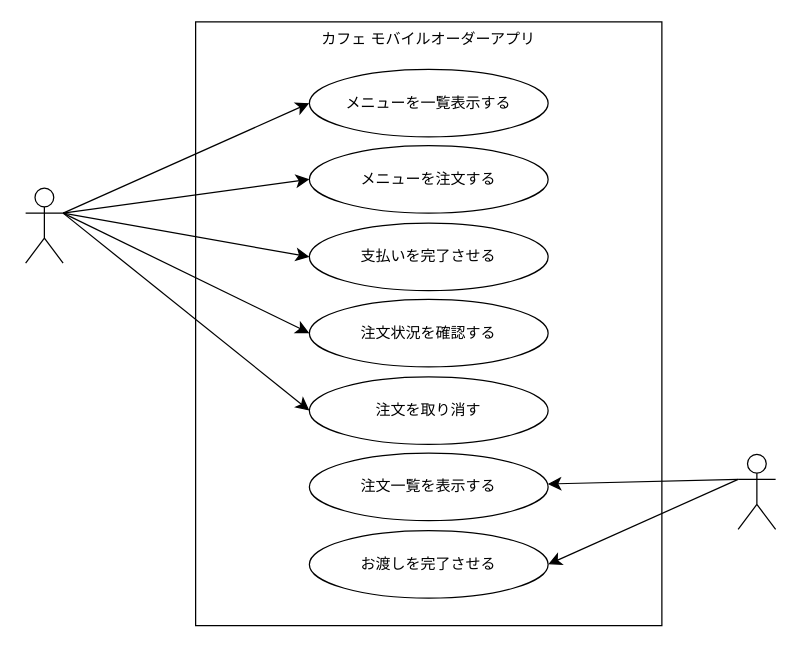
Image size: 798x648. Some labels were removed from this diagram. The shapes that lost their labels are listed below. From the top down, each one's box as (x1, y1, x2, y2) in pixels, then its label:
(24, 187, 63, 263): お客様
(737, 453, 776, 529): 店員
